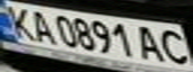0: (48, 11, 78, 47)
1: (109, 20, 136, 58)
8: (69, 15, 93, 52)
9: (90, 18, 115, 55)
A: (133, 22, 166, 63), (24, 7, 57, 44)
C: (154, 27, 193, 65)
K: (0, 2, 39, 40)
